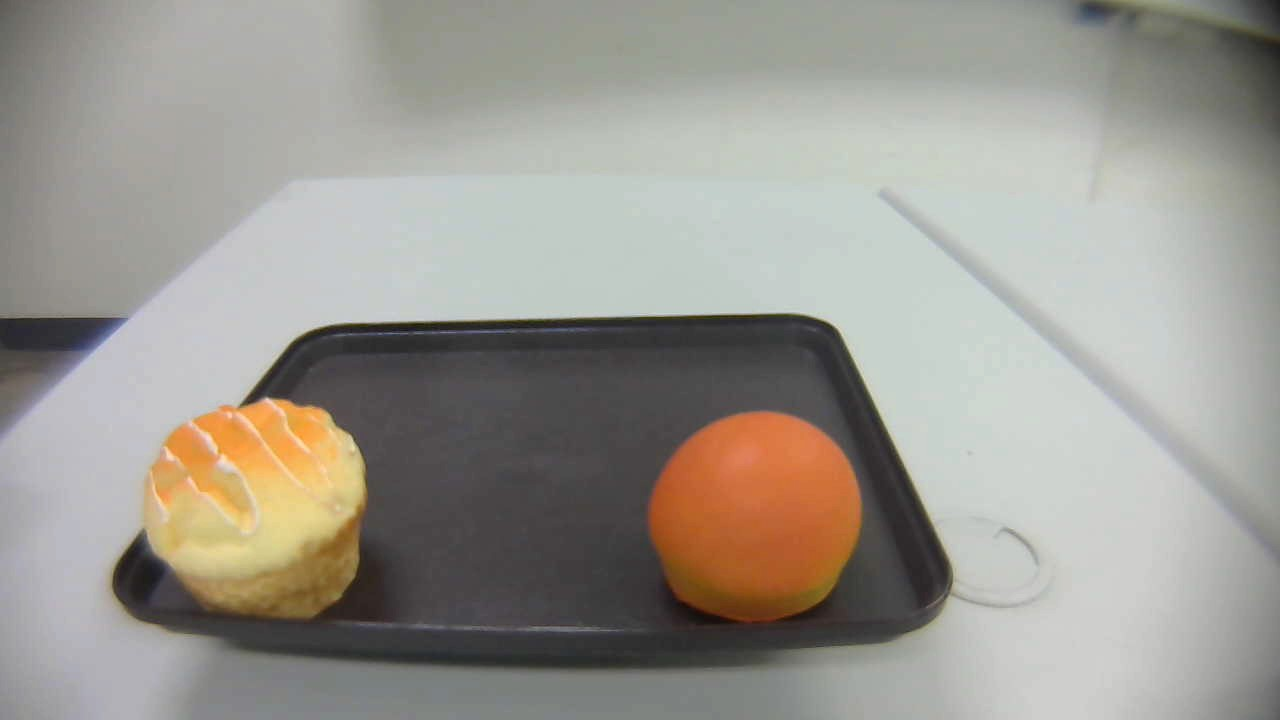bun: (645, 410, 862, 623)
cupcake: (142, 399, 369, 620)
